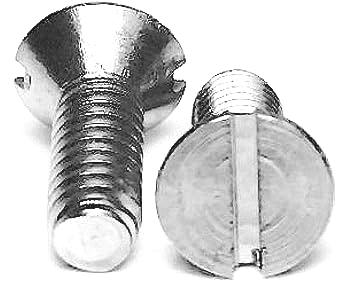screw: (156, 110, 334, 278)
